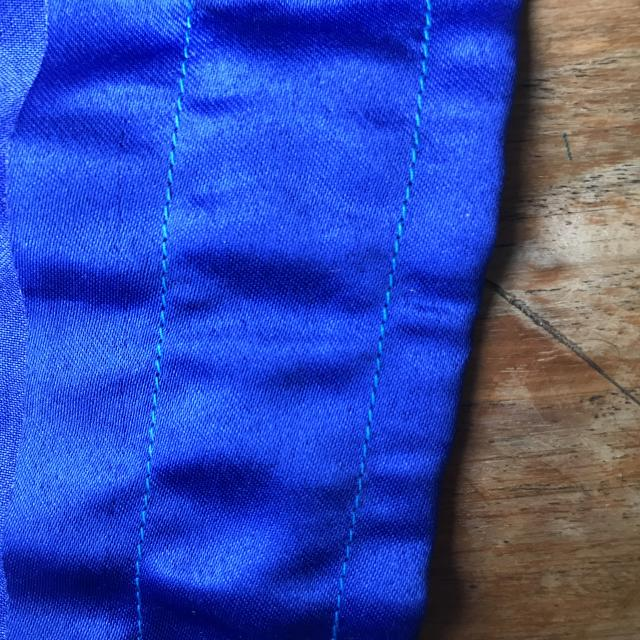good: (128, 177, 194, 363), (373, 186, 420, 357)
